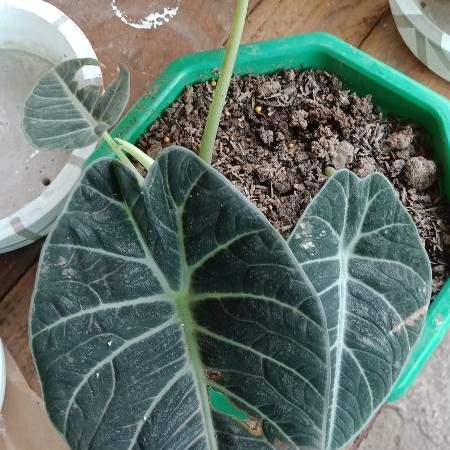obstacle: (63, 28, 419, 442)
